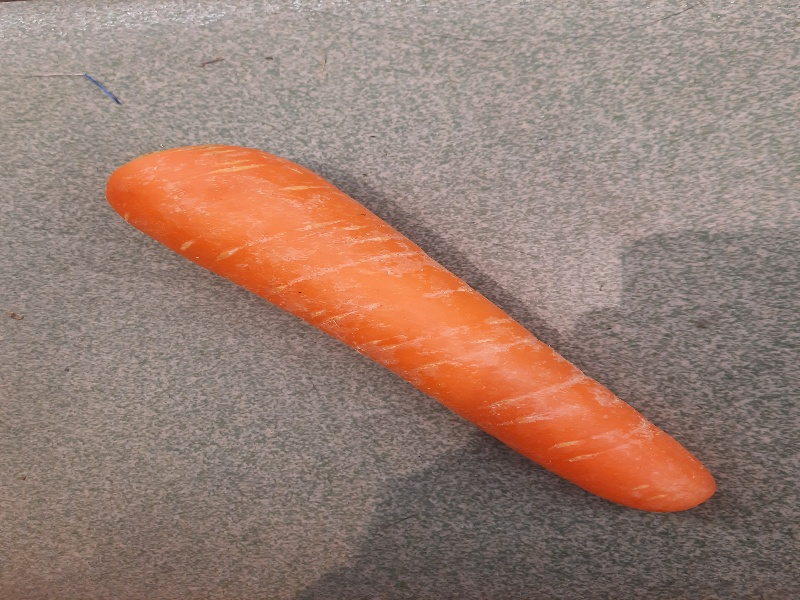vege: (102, 140, 725, 517)
